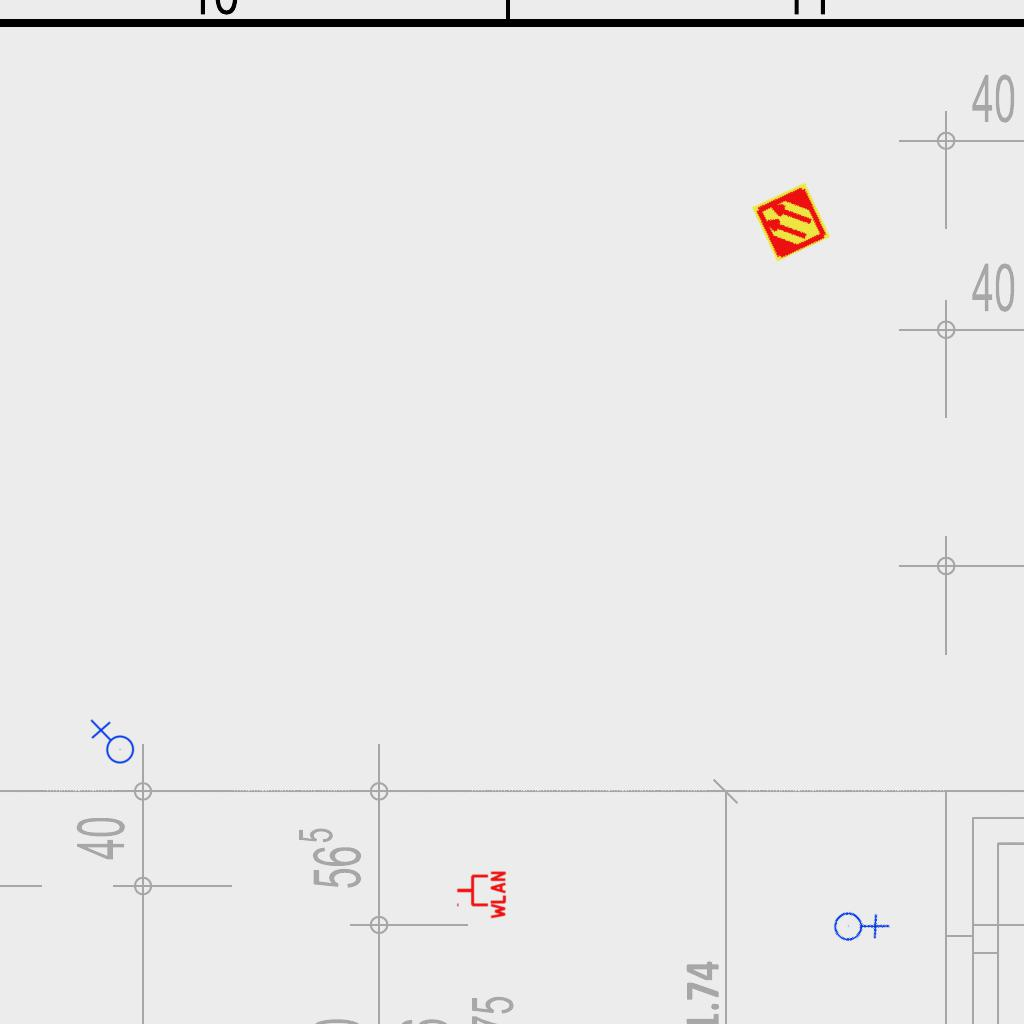ASR_Ansaugrauchmelder: (749, 180, 833, 264)
Elektroanschluss_allgemein_230V_Geraeteanschlussdose_230V: (824, 890, 893, 959), (88, 719, 135, 768)
WLAN: (455, 869, 507, 921)
